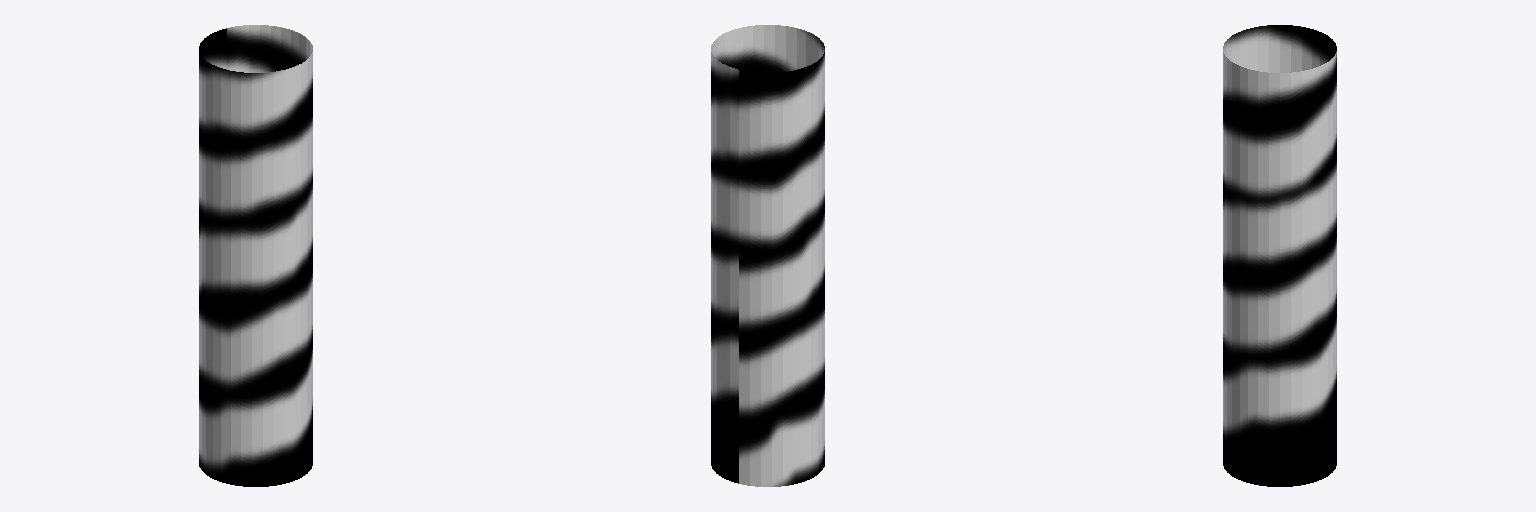
The picture shows the model from 3 angles: view 1: azimuth 30°, elevation 25°; view 2: azimuth 150°, elevation 25°; view 3: azimuth 270°, elevation 25°; orthographic projection.
Parts seen in each view (by area): view 1: 円柱; view 2: 円柱; view 3: 円柱.
Part boxes in pixels (left/top/right/bottom): 円柱: left=199, top=25, right=312, bottom=486; 円柱: left=711, top=25, right=824, bottom=486; 円柱: left=1223, top=25, right=1336, bottom=486.
Bounding box in the file's own units: 110 × 438 × 110.
Materials: 1 (1 with a texture image).